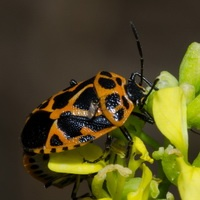insect: (21, 71, 168, 199)
